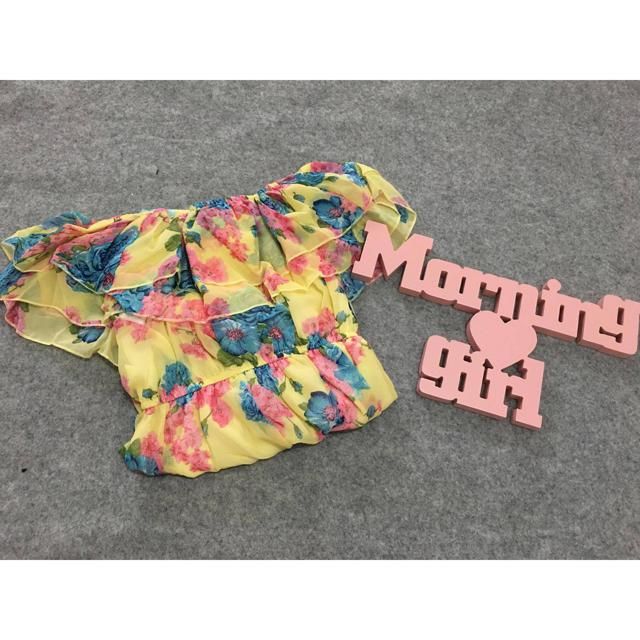Tops: (4, 162, 411, 475)
